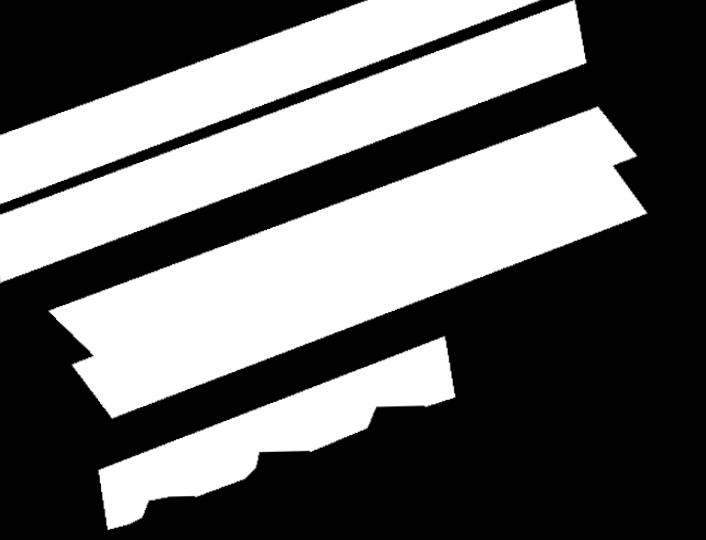parkingspot: (49, 106, 647, 419), (0, 0, 586, 283), (0, 0, 540, 204), (98, 336, 455, 530)
